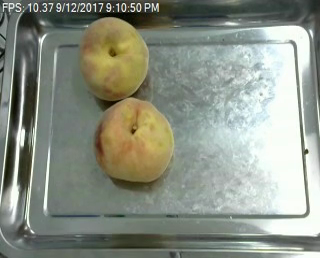Peach: (96, 97, 175, 183), (79, 16, 149, 101)
